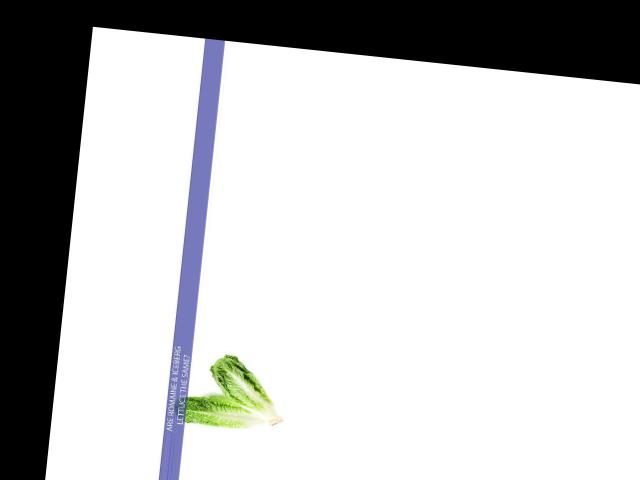lettuce: (198, 354, 288, 430)
